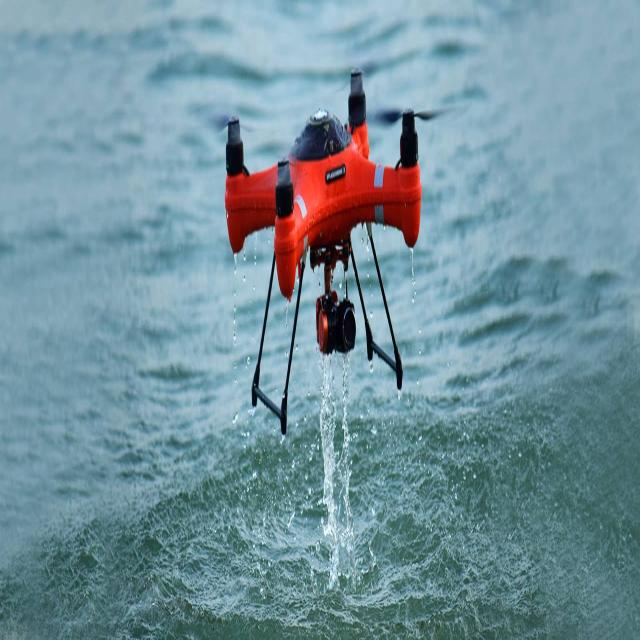drone: (205, 72, 462, 356)
